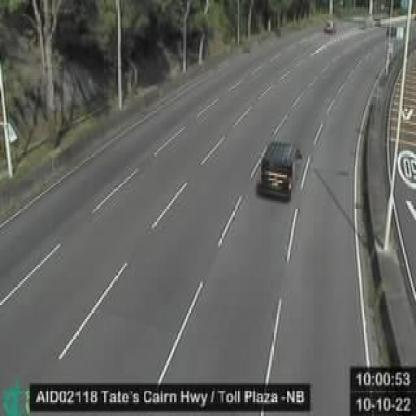Car: (257, 138, 300, 202), (323, 17, 336, 34)
